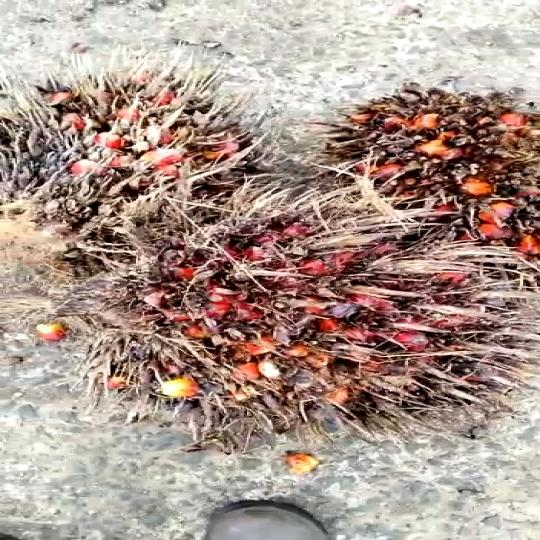terlalu masak: (101, 174, 534, 423), (0, 68, 289, 280), (314, 82, 540, 254)
